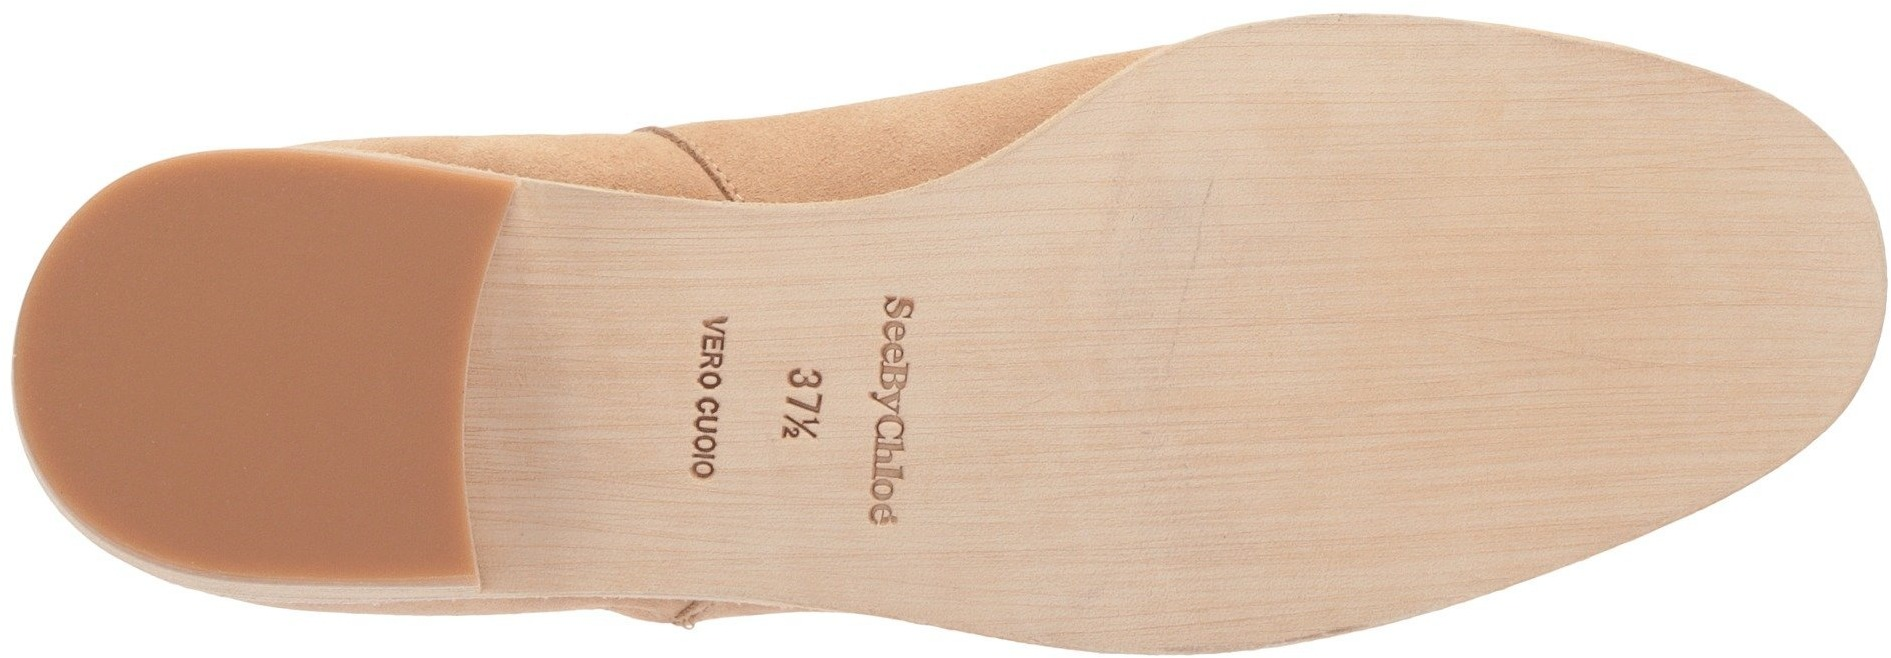circle: (667, 315, 816, 453), (841, 425, 926, 523)
exclude: (459, 159, 691, 629)
other: (1403, 82, 1770, 469), (990, 163, 1404, 489), (90, 202, 295, 411), (197, 421, 384, 578), (305, 180, 462, 341)
text: (667, 315, 816, 453), (844, 278, 987, 415), (841, 425, 926, 523)
